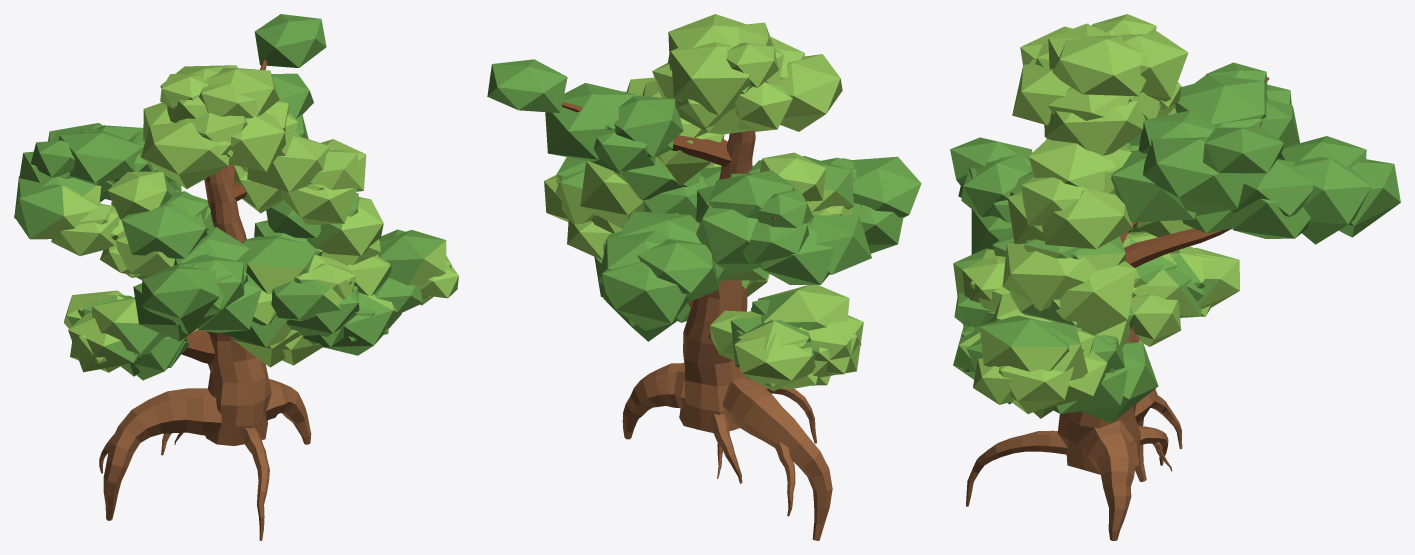
Rendered from tree_c.glb.
The picture shows the model from 3 angles, left to right: view 1: azimuth 30°, elevation 25°; view 2: azimuth 150°, elevation 25°; view 3: azimuth 270°, elevation 25°; orthographic projection. The views are drawn at different scales.
Parts seen in each view (by area): view 1: TreeWood, BranchLeaves_5, CanopyLeaves, BranchLeaves_2, BranchLeaves_7, BranchLeaves_10, BranchLeaves_1, BranchLeaves_4, BranchLeaves_3, BranchLeaves_8, BranchLeaves_9, BranchLeaves_6 (+1 smaller); view 2: TreeWood, CanopyLeaves, BranchLeaves_9, BranchLeaves_1, BranchLeaves_6, BranchLeaves_8, BranchLeaves_2, BranchLeaves_5, BranchLeaves_7, BranchLeaves_10, Branch.009, BranchLeaves_0 (+1 smaller); view 3: BranchLeaves_2, CanopyLeaves, BranchLeaves_6, BranchLeaves_9, BranchLeaves_10, TreeWood, BranchLeaves_1, BranchLeaves_8, BranchLeaves_7, BranchLeaves_0, BranchLeaves_4, Branch.006 (+1 smaller).
Boxes of the visible parts, x1,y1,x2,y2 form: TreeWood: [99, 167, 311, 540]; BranchLeaves_5: [14, 171, 214, 280]; CanopyLeaves: [141, 65, 298, 188]; BranchLeaves_2: [254, 192, 458, 347]; BranchLeaves_7: [133, 227, 261, 341]; BranchLeaves_10: [234, 133, 366, 224]; BranchLeaves_1: [63, 290, 198, 380]; BranchLeaves_4: [271, 254, 401, 365]; BranchLeaves_3: [223, 235, 316, 367]; BranchLeaves_8: [19, 130, 153, 202]; BranchLeaves_9: [254, 14, 326, 138]; BranchLeaves_6: [48, 123, 181, 205]; TreeWood: [622, 130, 832, 540]; CanopyLeaves: [652, 14, 842, 134]; BranchLeaves_9: [487, 59, 683, 173]; BranchLeaves_1: [710, 285, 863, 391]; BranchLeaves_6: [598, 211, 732, 330]; BranchLeaves_8: [696, 170, 813, 275]; BranchLeaves_2: [544, 157, 707, 259]; BranchLeaves_5: [724, 152, 871, 284]; BranchLeaves_7: [821, 156, 921, 253]; BranchLeaves_10: [624, 77, 724, 185]; Branch.009: [562, 102, 731, 166]; BranchLeaves_0: [594, 231, 690, 341]; BranchLeaves_2: [954, 236, 1136, 418]; CanopyLeaves: [1012, 14, 1188, 155]; BranchLeaves_6: [1182, 136, 1400, 244]; BranchLeaves_9: [1111, 110, 1283, 222]; BranchLeaves_10: [1007, 138, 1132, 249]; TreeWood: [966, 326, 1182, 540]; BranchLeaves_1: [1123, 232, 1239, 346]; BranchLeaves_8: [1175, 62, 1299, 158]; BranchLeaves_7: [950, 137, 1033, 254]; BranchLeaves_0: [1053, 334, 1158, 423]; BranchLeaves_4: [953, 248, 1011, 404]; Branch.006: [1124, 228, 1231, 267].
Size of the model in its own units: 9.38 by 10.89 by 8.82.
